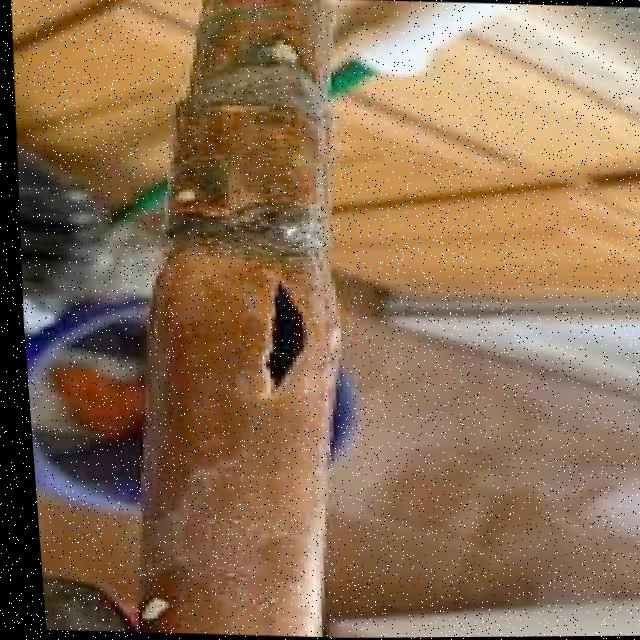rupture: (227, 273, 319, 406)
